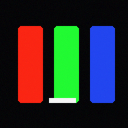3 line_h: (49, 98, 75, 102)
